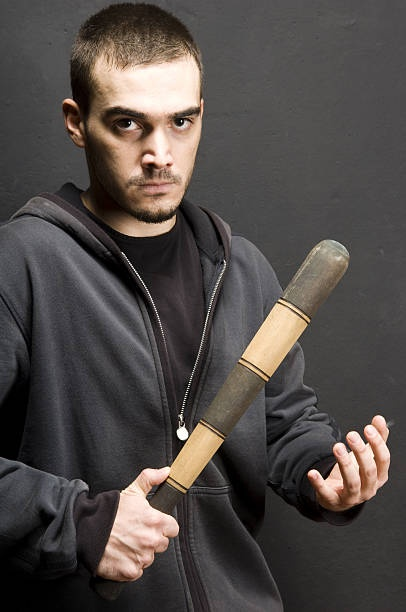bita: (88, 242, 346, 599)
